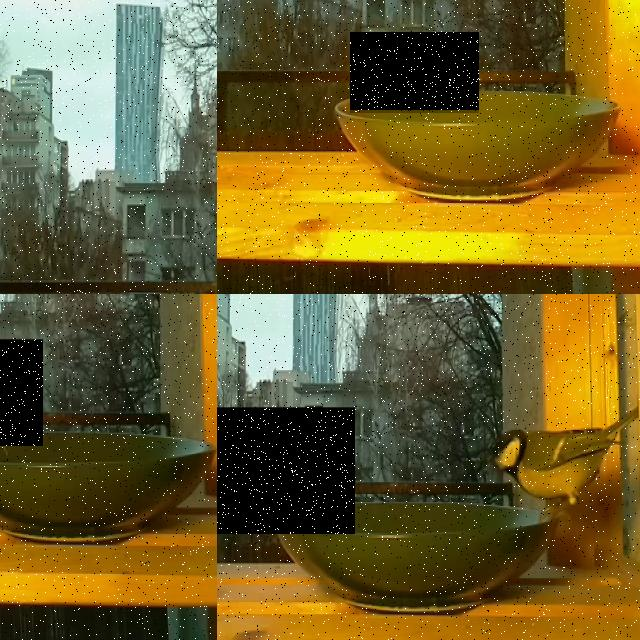Bogatka: (478, 406, 640, 522)
Modraszka: (350, 32, 479, 112)
Wrobel: (217, 407, 355, 533), (0, 339, 43, 445)
